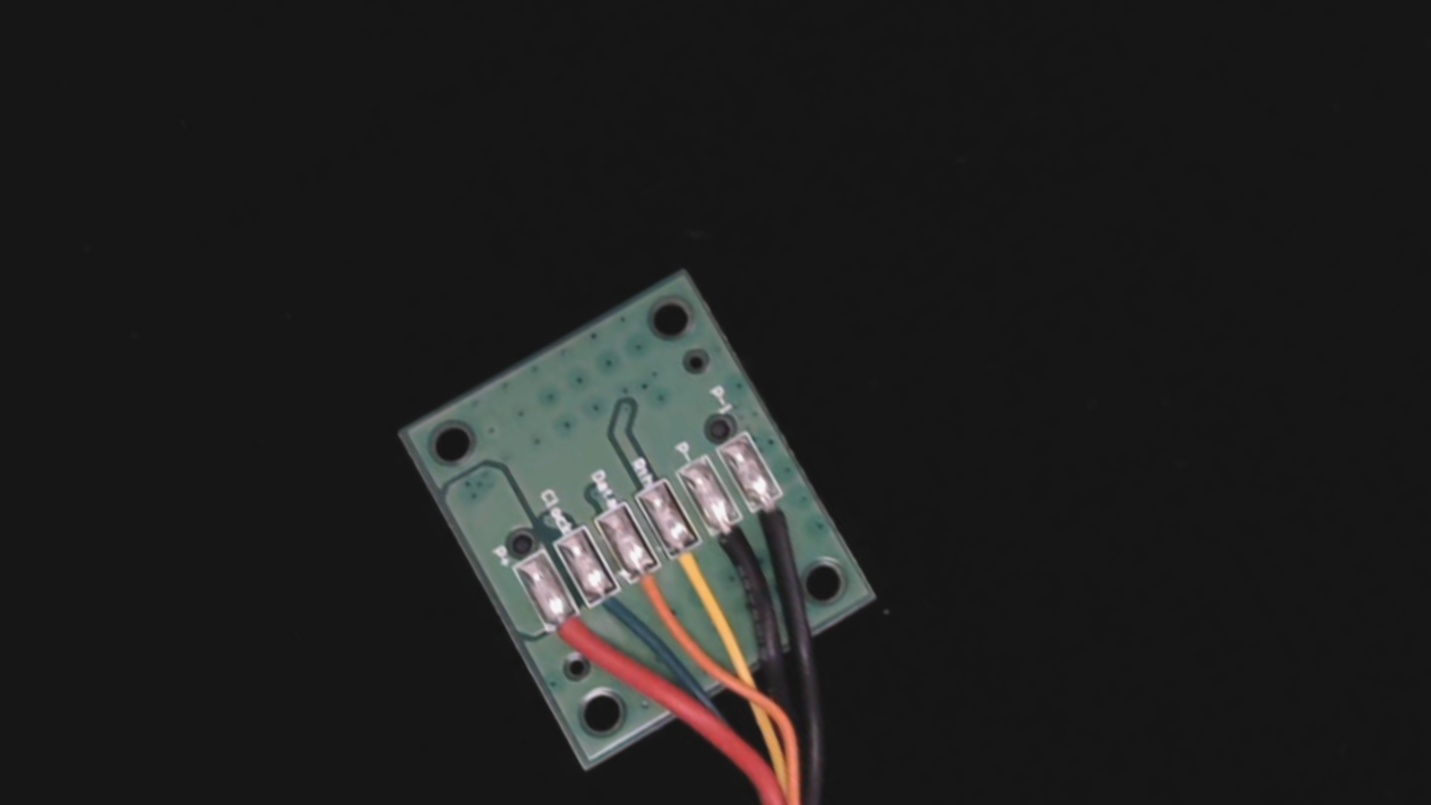Black: (694, 497, 782, 594)
Black1: (736, 474, 819, 564)
Green: (575, 566, 654, 652)
Orange: (612, 547, 698, 643)
Red: (530, 595, 615, 689)
Yellow: (651, 521, 740, 620)
